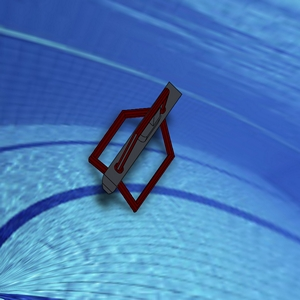submarine: (65, 70, 215, 224)
